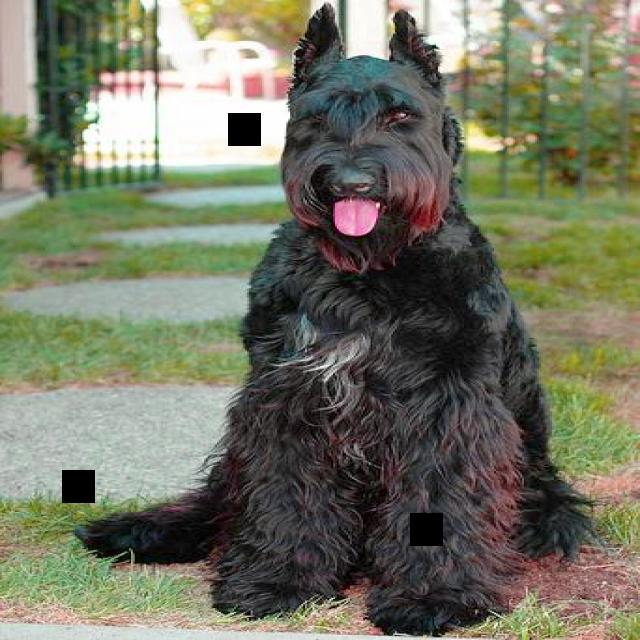adult_dog: (67, 6, 600, 625)
